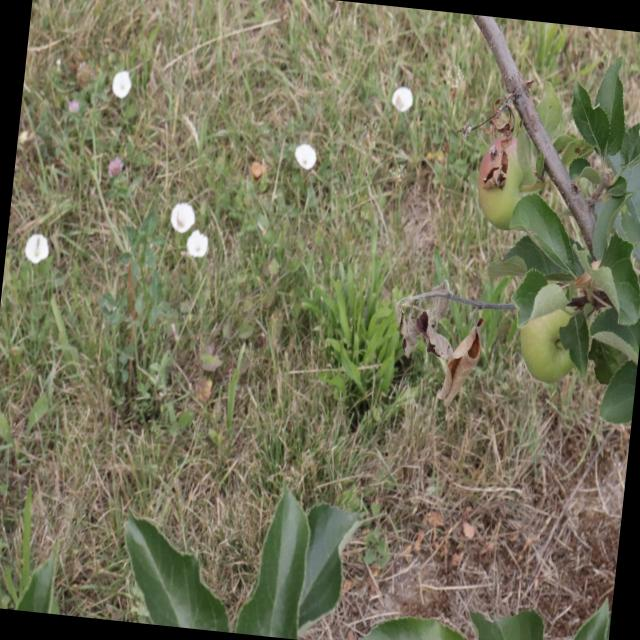-FireBlight-: (387, 294, 488, 398), (475, 88, 521, 192)
